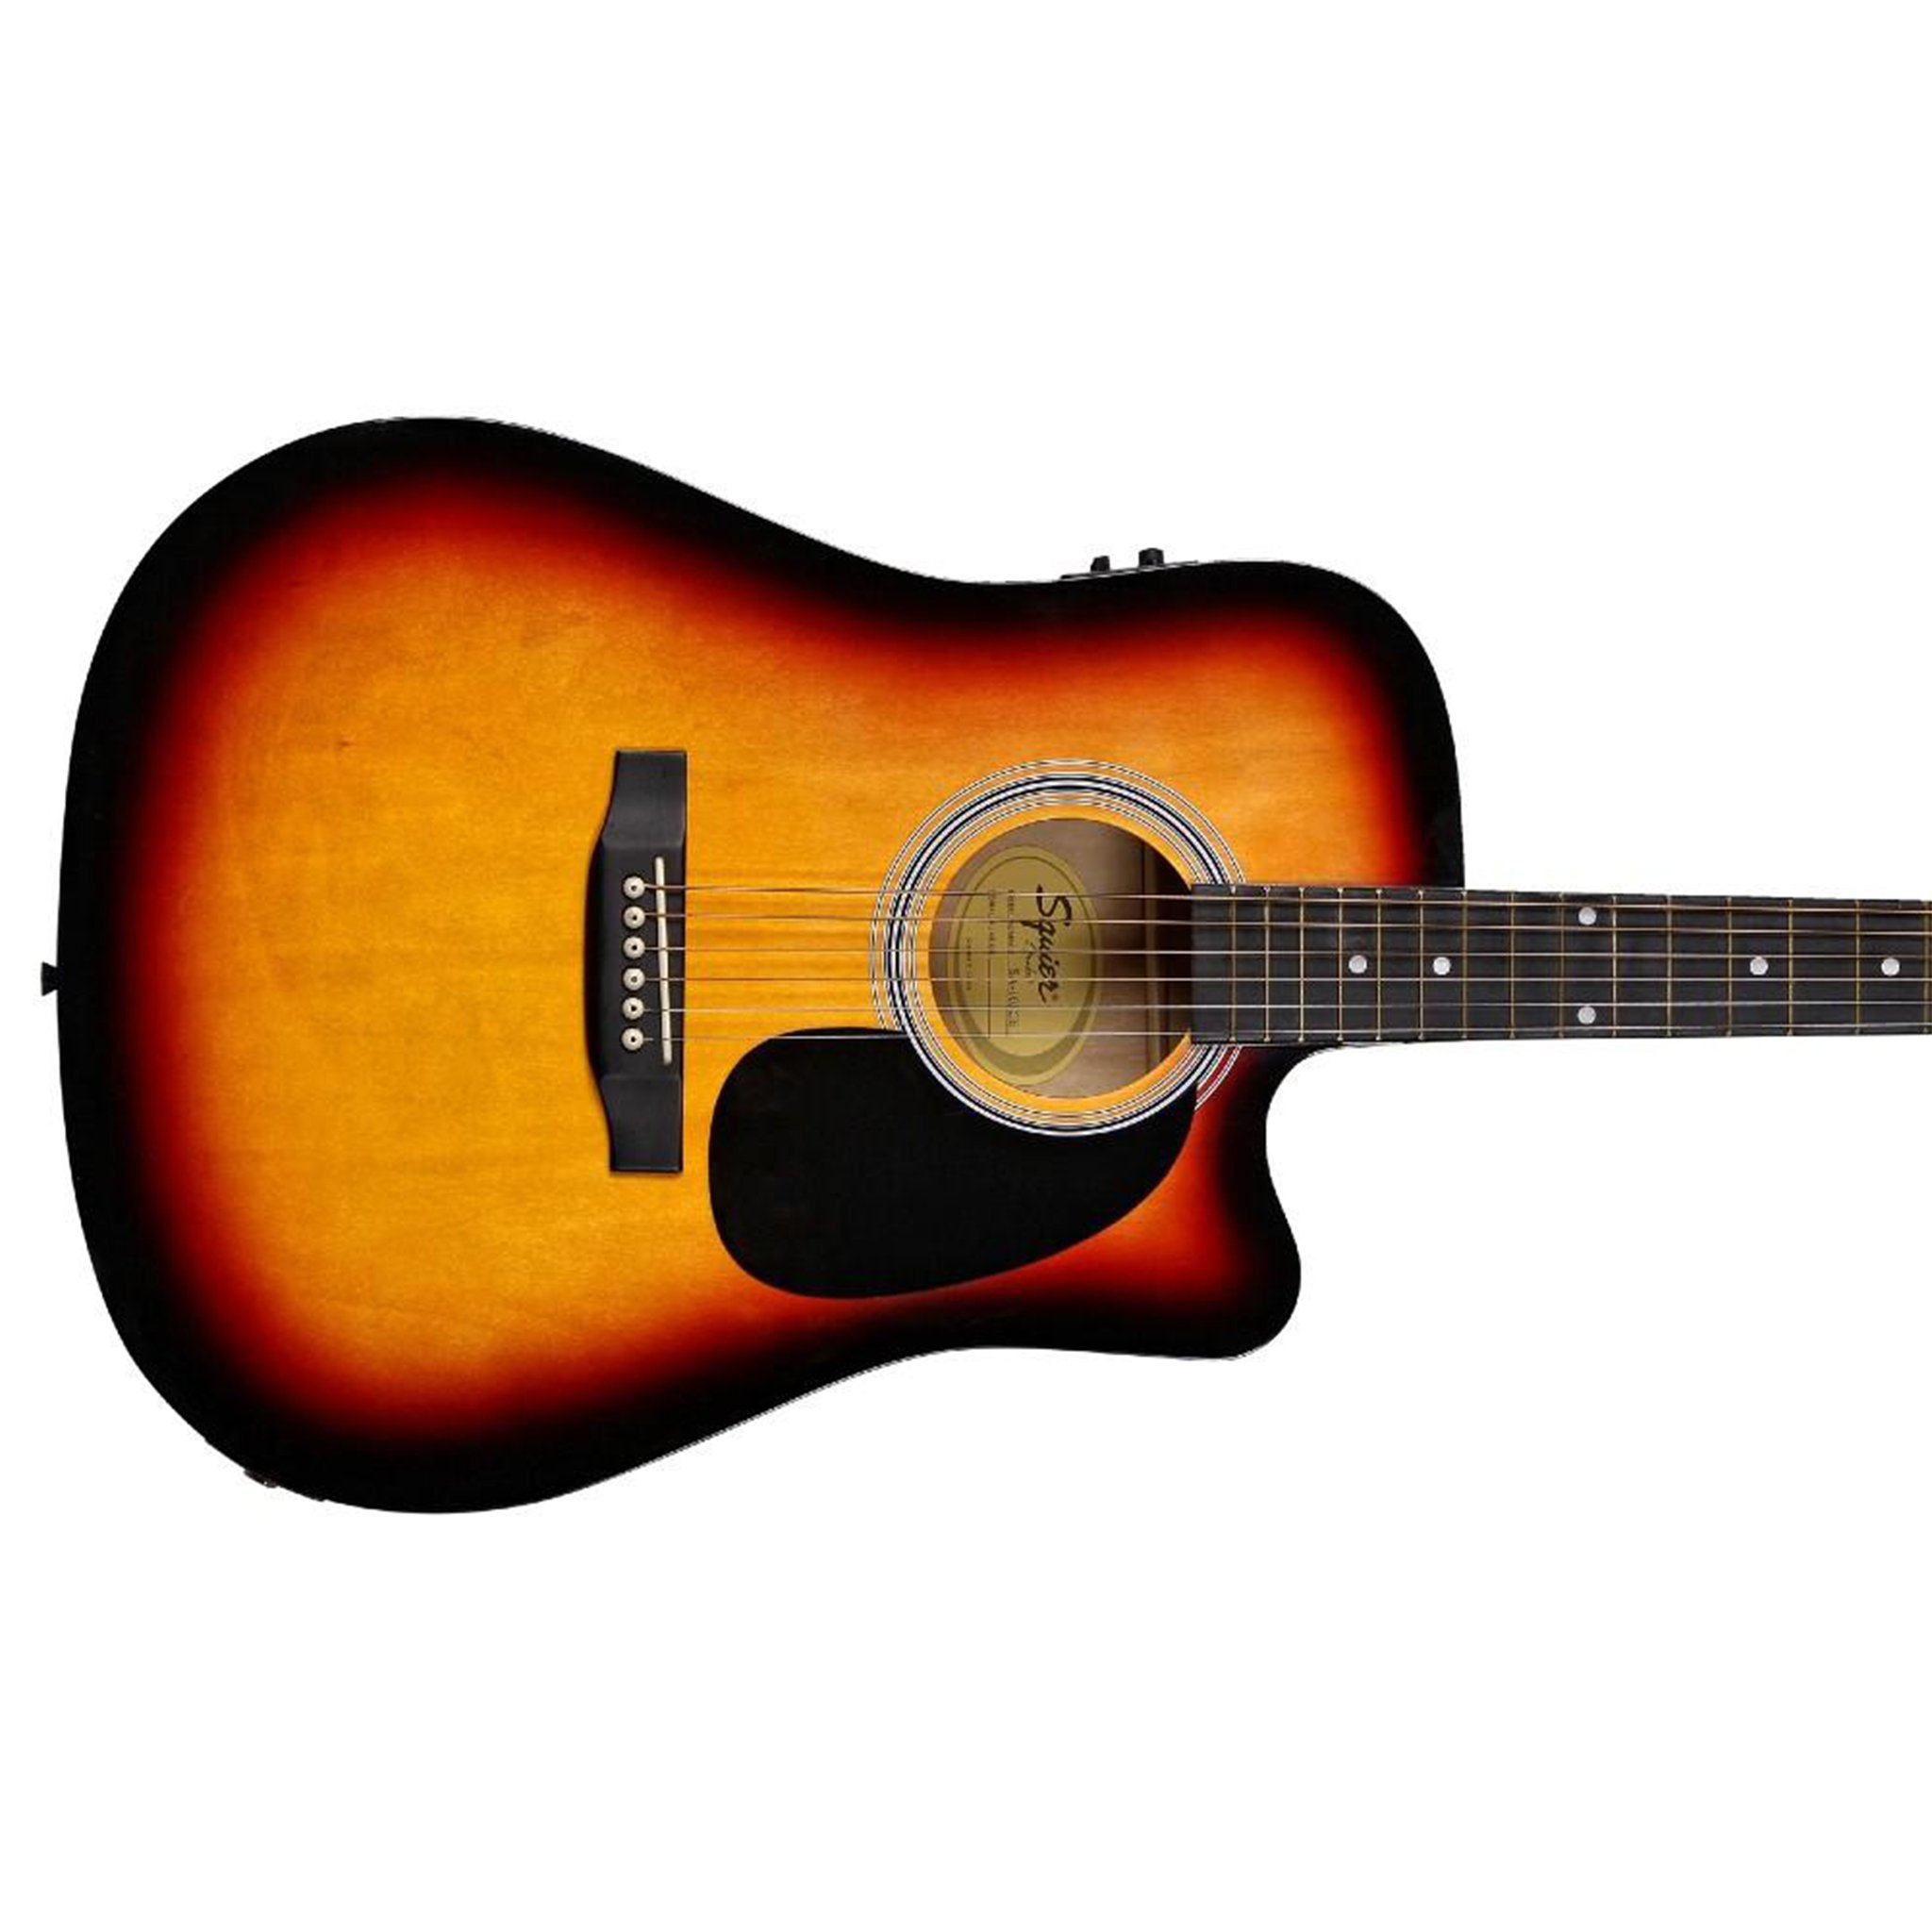guitar: (32, 405, 1927, 1520)
